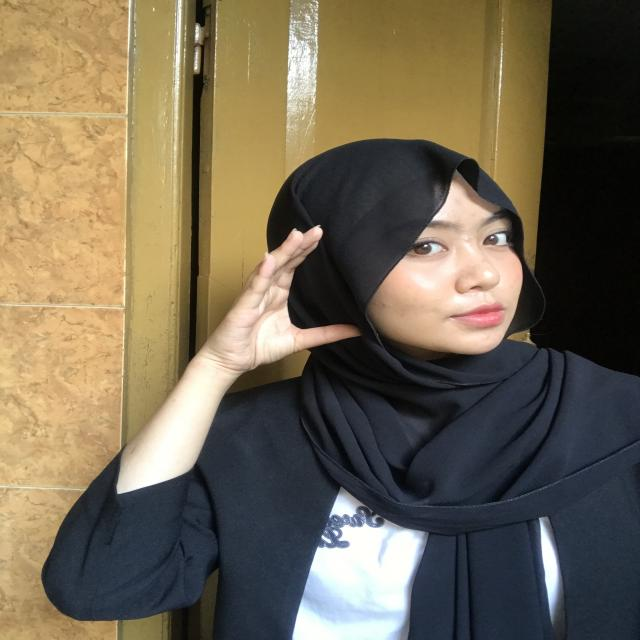mendengar: (198, 218, 358, 381)
